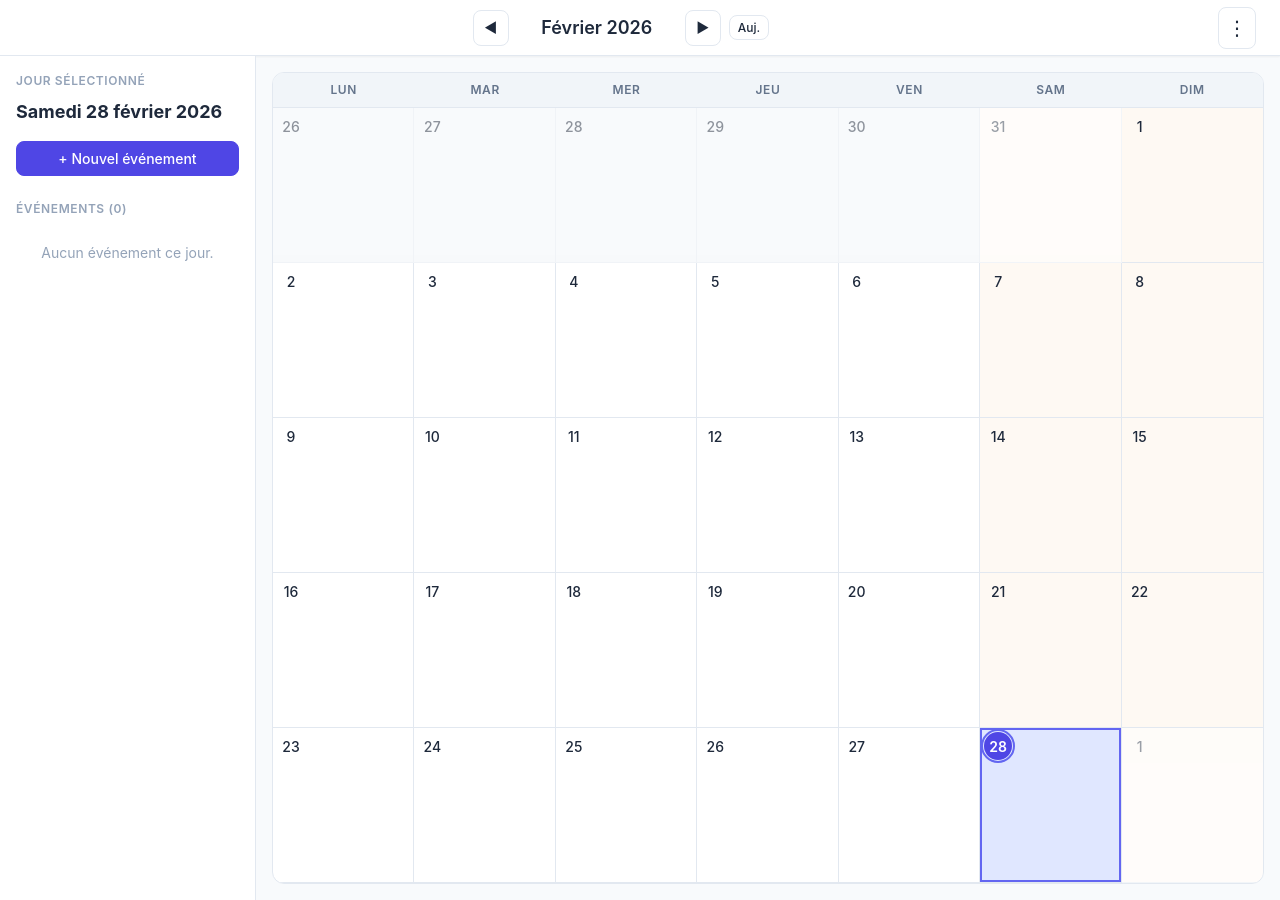
Test case: App › toggles between month and week view via menu
This screenshot has width=1280, height=900.
Note: Open the menu and click Semaine
Click the button named "Menu" at (1237, 28), box 1218,6 -> 1256,48
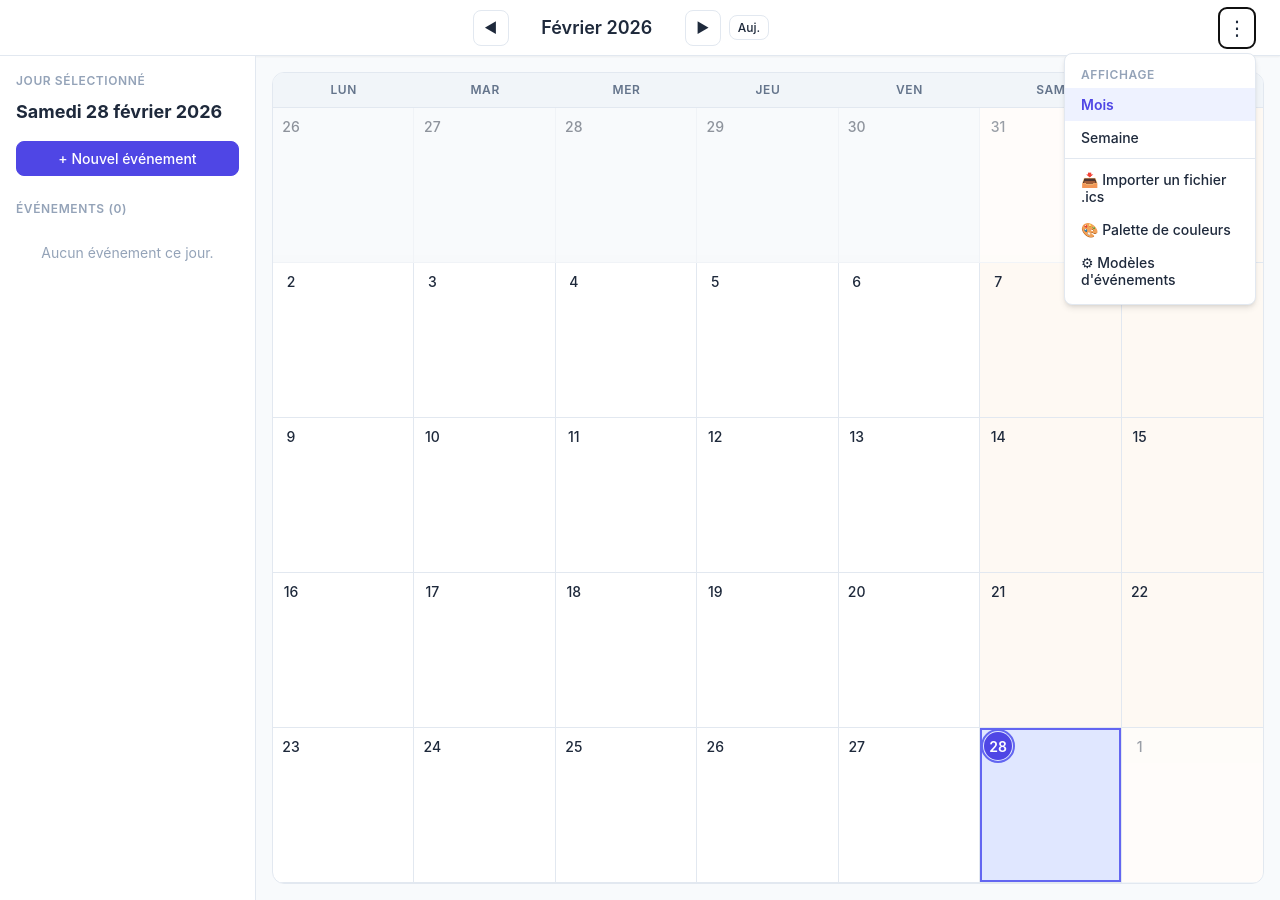
Click the menu item "Semaine" at (1160, 137), box 1065,120 -> 1255,154
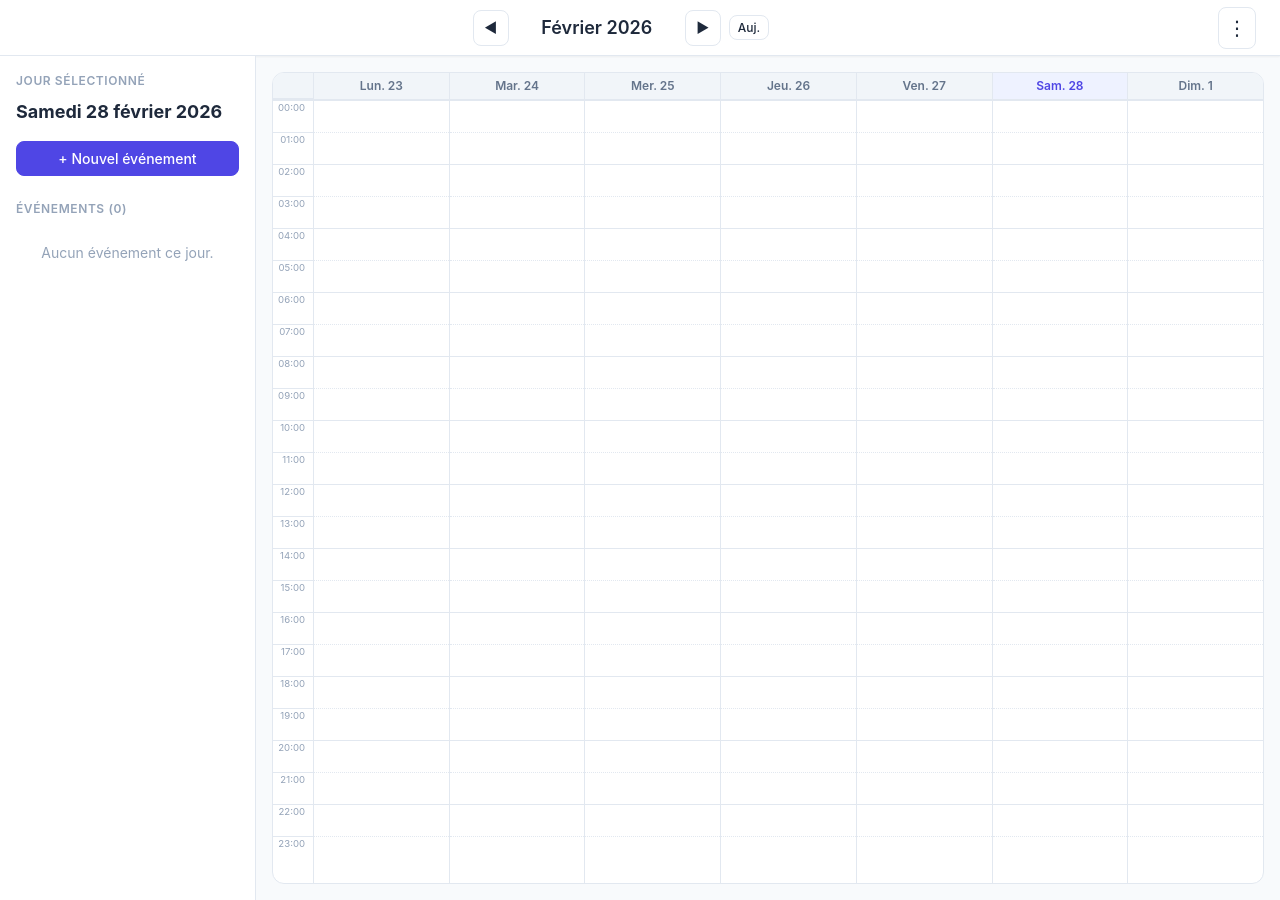
Now the element with class "week-grid" is shown
